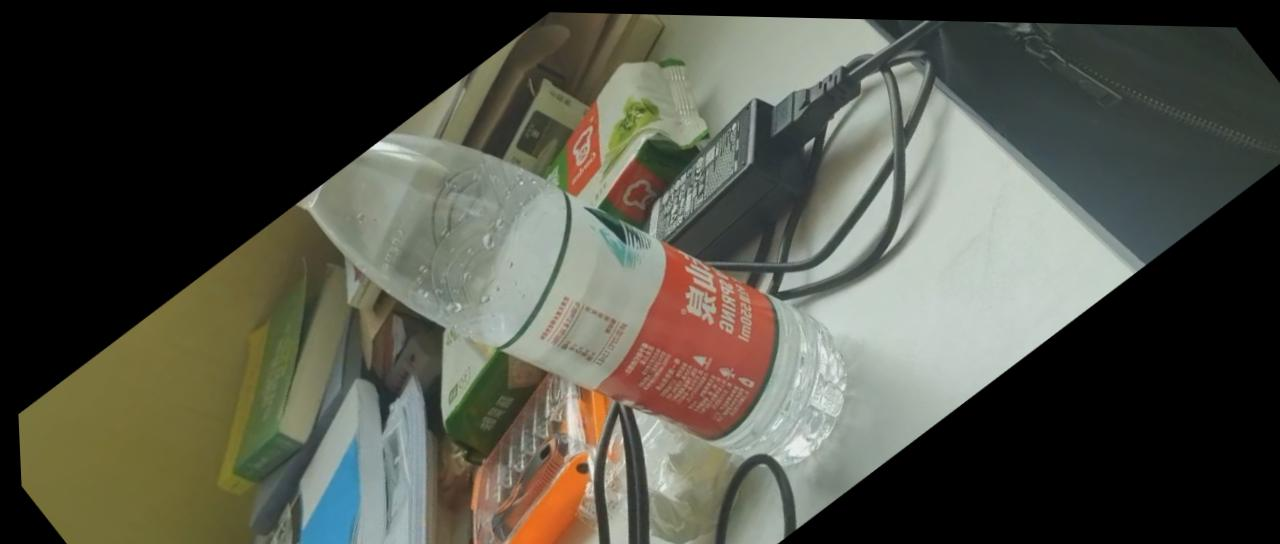plastic: (280, 6, 892, 544)
